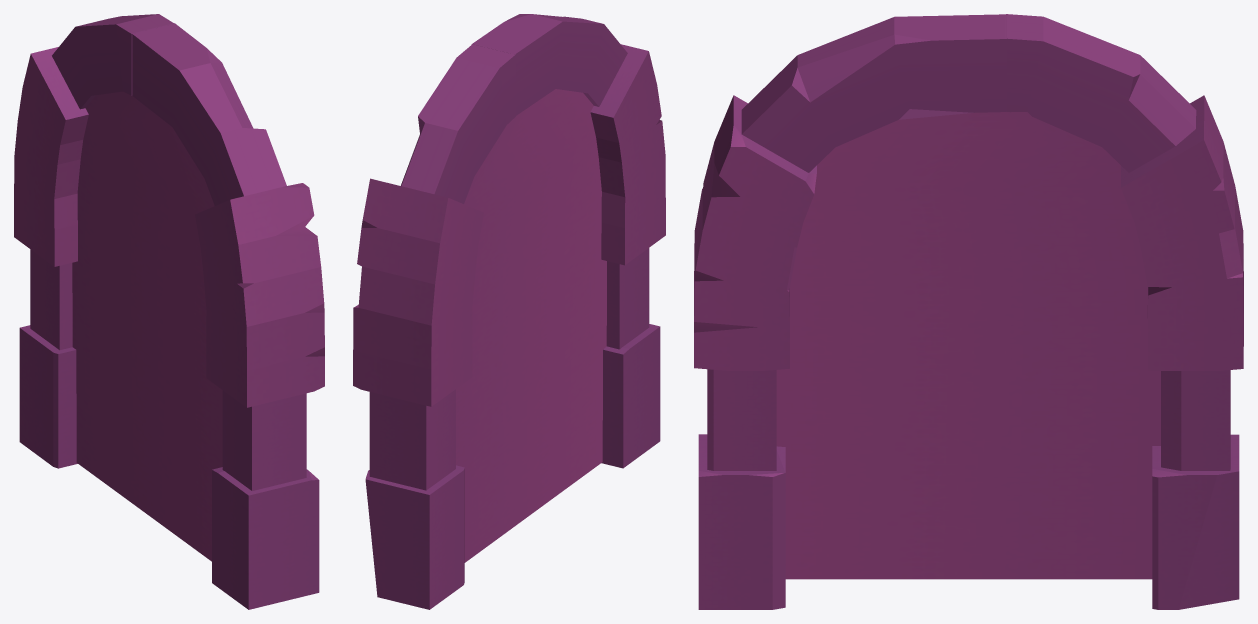
Rendered from portall.fbx.
3 views of the same model, side by side, from view 1: azimuth 30°, elevation 25°; view 2: azimuth 150°, elevation 25°; view 3: azimuth 270°, elevation 25° (orthographic). The views are drawn at different scales.
Parts seen in each view (by area): view 1: Cube.001, Plane; view 2: Cube.001, Plane; view 3: Plane, Cube.001.
Boxes of the visible parts, x1,y1,x2,y2 form: Cube.001: [14, 14, 324, 609]; Plane: [72, 91, 222, 561]; Cube.001: [353, 14, 665, 609]; Plane: [456, 89, 606, 562]; Plane: [776, 112, 1160, 579]; Cube.001: [694, 14, 1243, 609].
Size of the model in its own units: 18.75 by 109 by 96.74.
Materials: 2 (2 with a texture image).
